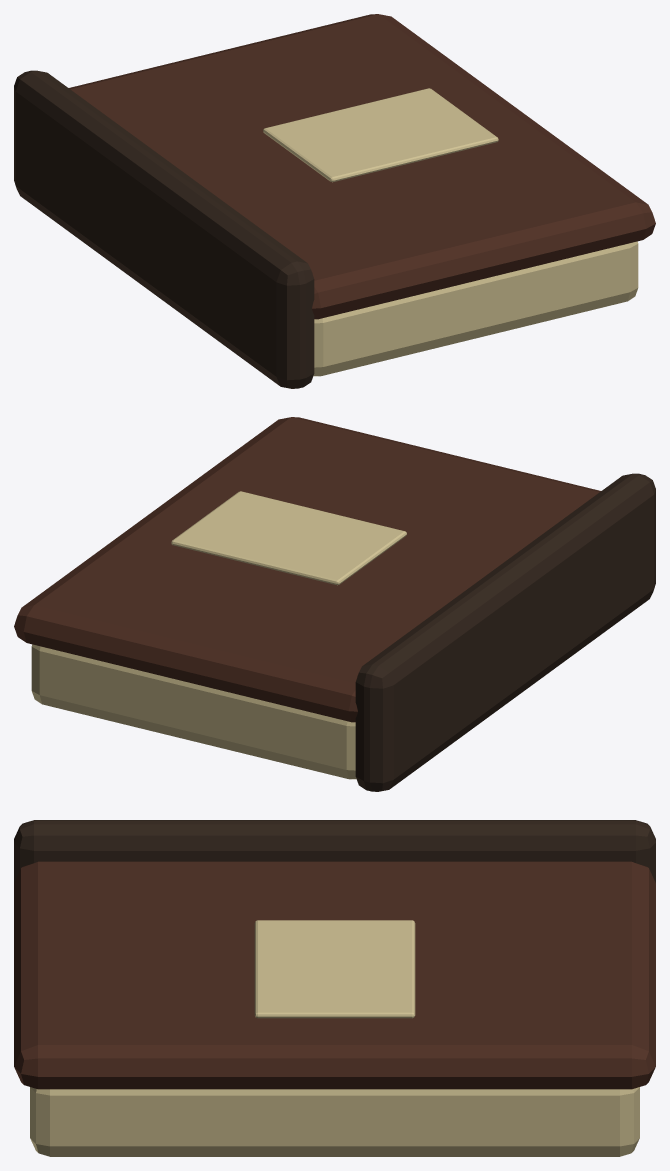
File: supply-ledger.glb
3 views of the same model, one above another, from view 1: azimuth 30°, elevation 25°; view 2: azimuth 150°, elevation 25°; view 3: azimuth 270°, elevation 25° (orthographic). The views are drawn at different scales.
Parts seen in each view (by area): view 1: LedgerCover, LedgerSpine, LedgerPages, LedgerLabel; view 2: LedgerCover, LedgerSpine, LedgerPages, LedgerLabel; view 3: LedgerCover, LedgerPages, LedgerSpine, LedgerLabel.
Boxes of the visible parts, x1,y1,x2,y2 form: LedgerCover: (69, 14, 655, 319); LedgerSpine: (14, 70, 314, 388); LedgerPages: (313, 241, 638, 376); LedgerLabel: (263, 88, 498, 182); LedgerCover: (14, 417, 600, 722); LedgerSpine: (355, 473, 655, 791); LedgerPages: (31, 644, 356, 779); LedgerLabel: (171, 491, 406, 585); LedgerCover: (14, 861, 655, 1089); LedgerPages: (30, 1087, 639, 1156); LedgerSpine: (14, 820, 655, 882); LedgerLabel: (254, 920, 415, 1018).
Bounding box in the file's own units: 0.63 × 0.2 × 0.8.
